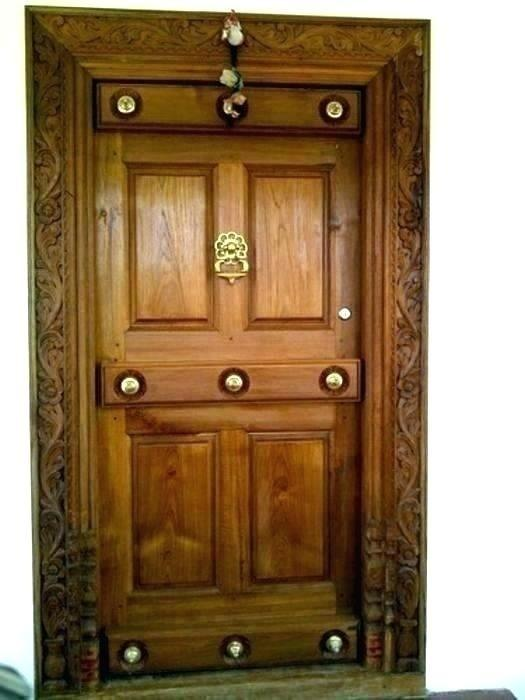door: (73, 91, 373, 671)
